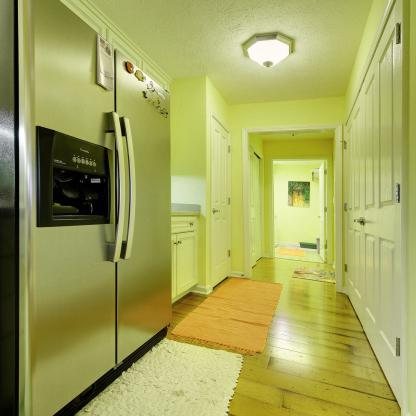door: (359, 0, 405, 404), (212, 113, 232, 290), (346, 127, 364, 301), (319, 160, 327, 262)
hinged: (395, 20, 401, 45), (394, 181, 400, 203), (396, 334, 402, 356), (343, 139, 347, 149), (344, 263, 348, 273), (344, 202, 348, 211), (228, 144, 231, 153), (228, 196, 231, 204), (228, 250, 231, 258), (324, 170, 327, 175), (324, 207, 327, 212), (324, 244, 327, 249)
knob: (355, 216, 364, 226)
lever: (213, 209, 221, 212), (317, 216, 321, 219)
